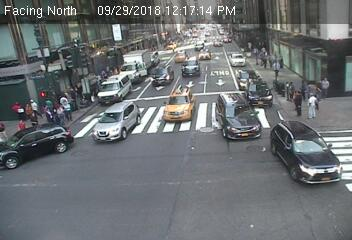car: (269, 118, 343, 187), (1, 121, 75, 171), (215, 92, 262, 141), (94, 102, 141, 141), (159, 85, 197, 123), (119, 50, 148, 84), (96, 77, 131, 101), (249, 78, 273, 106), (235, 67, 257, 91), (154, 65, 173, 87), (182, 60, 201, 79), (146, 49, 161, 65), (229, 53, 247, 66), (175, 47, 188, 64), (197, 48, 212, 61), (211, 37, 224, 48), (166, 40, 177, 51), (193, 41, 205, 50), (224, 34, 232, 44)
